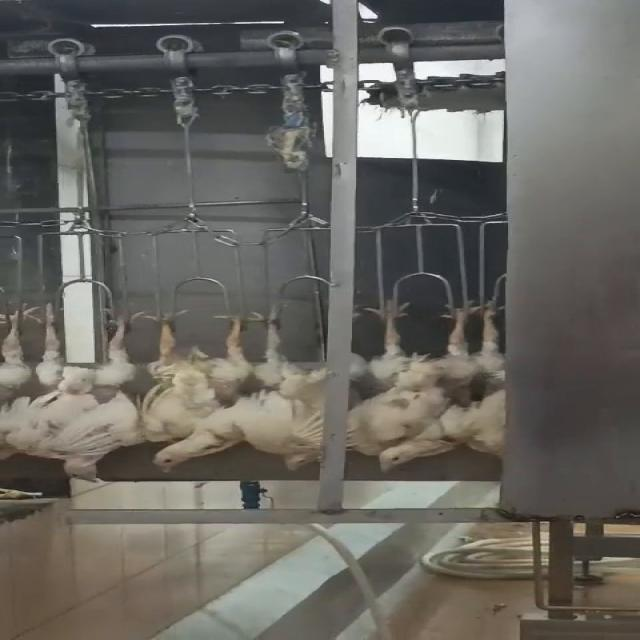chicken: (20, 298, 144, 486), (343, 292, 469, 476), (137, 309, 261, 477), (251, 302, 328, 476), (0, 294, 48, 475), (464, 292, 515, 460)
